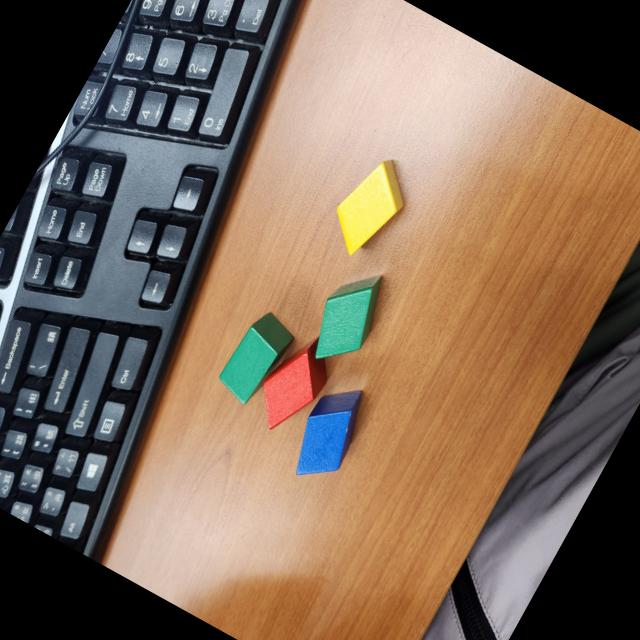blue: (294, 390, 362, 474)
green: (298, 257, 397, 376), (212, 304, 301, 412)
red: (242, 323, 344, 442)
yellow: (316, 147, 422, 270)
